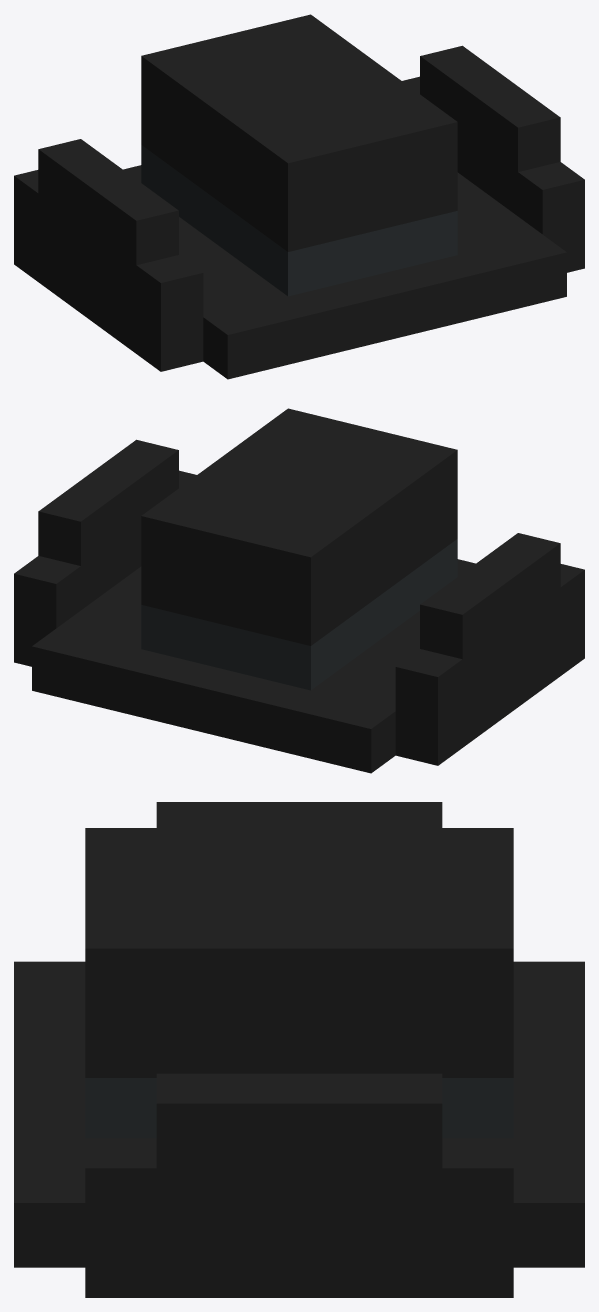
The model's file is cowboy_hat2.fbx.
3 renders of one model, top to bottom at view 1: azimuth 30°, elevation 25°; view 2: azimuth 150°, elevation 25°; view 3: azimuth 270°, elevation 25°, orthographic. The views are drawn at different scales.
Visible parts, largest first — view 1: cowboy_hat2; view 2: cowboy_hat2; view 3: cowboy_hat2.
Part boxes in pixels (x1=…): cowboy_hat2: x1=14, y1=14, x2=584, y2=379; cowboy_hat2: x1=14, y1=408, x2=584, y2=773; cowboy_hat2: x1=14, y1=802, x2=584, y2=1297.
Bounding box in the file's own units: 100 × 40 × 80.
Materials: 1 (1 with a texture image).
